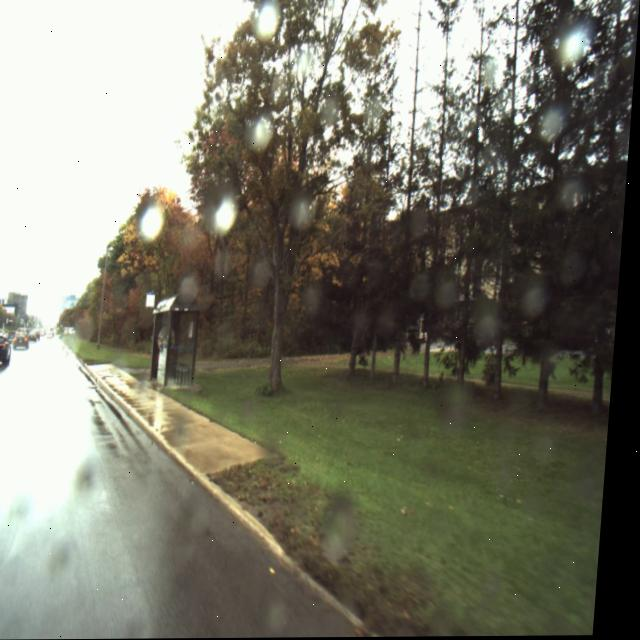car: (0, 333, 18, 372), (18, 332, 36, 350), (33, 331, 42, 343)
